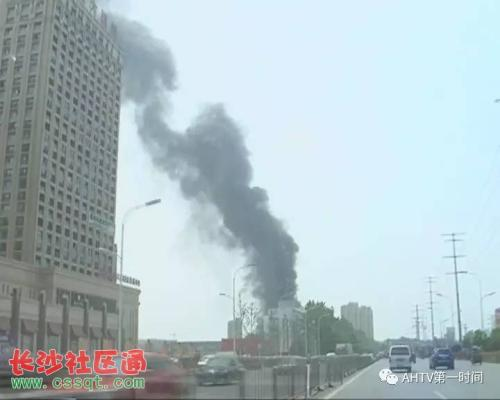smoke: (164, 104, 304, 305)
